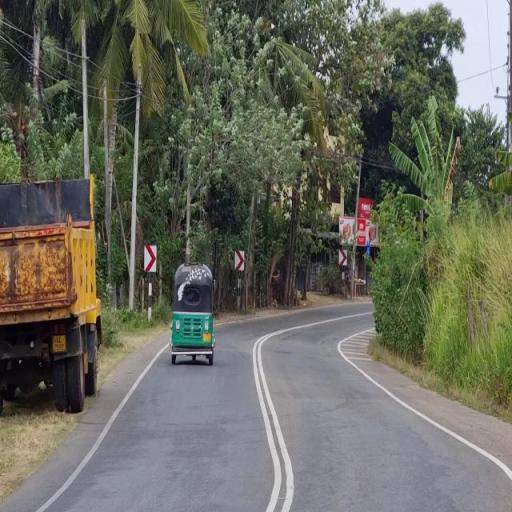double_white_line: (250, 326, 294, 512), (0, 13, 34, 65)
